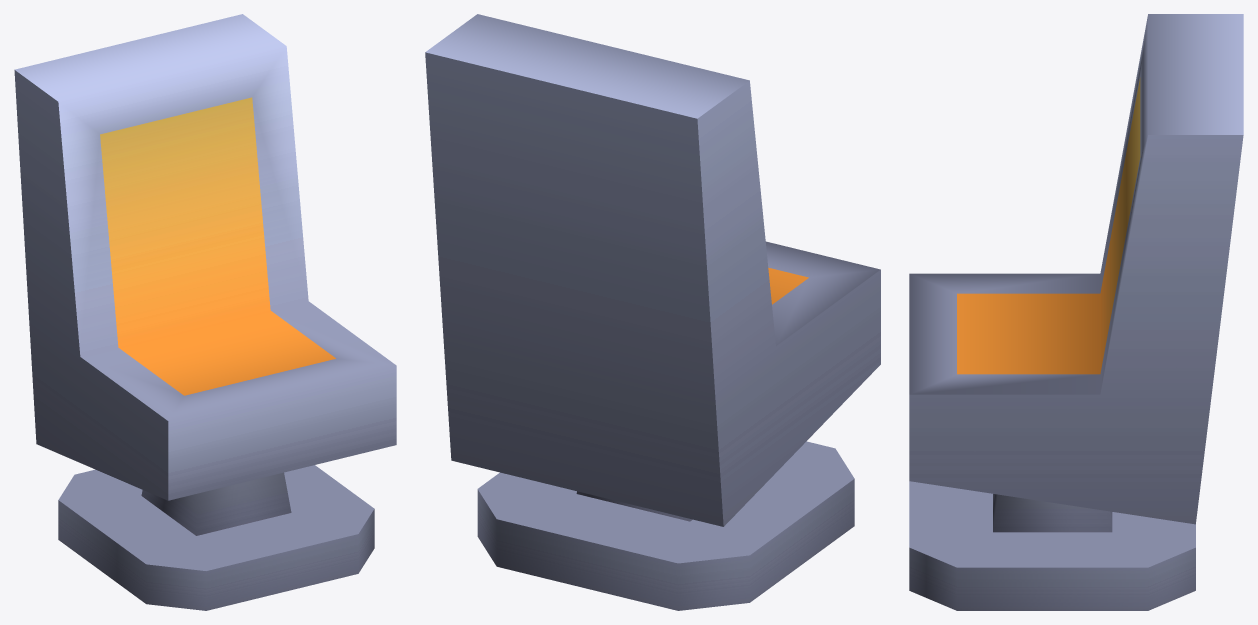
File: station-chair-cushion.glb
The picture shows the model from 3 angles, left to right: view 1: azimuth 30°, elevation 25°; view 2: azimuth 150°, elevation 25°; view 3: azimuth 270°, elevation 25°; orthographic projection. The views are drawn at different scales.
Visible parts, largest first — view 1: chair-cushion; view 2: chair-cushion; view 3: chair-cushion.
Part boxes in pixels (left/top/right/bottom): chair-cushion: left=14, top=14, right=396, bottom=610; chair-cushion: left=425, top=14, right=880, bottom=610; chair-cushion: left=909, top=14, right=1243, bottom=610.
Size of the model in its own units: 0.3 by 0.55 by 0.35.
1 material, 1 textured.
